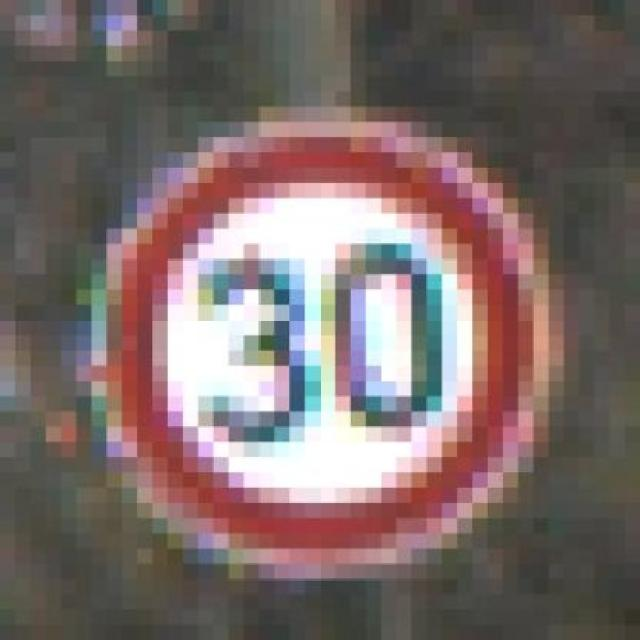forb_speed_over_30: (104, 133, 538, 562)
